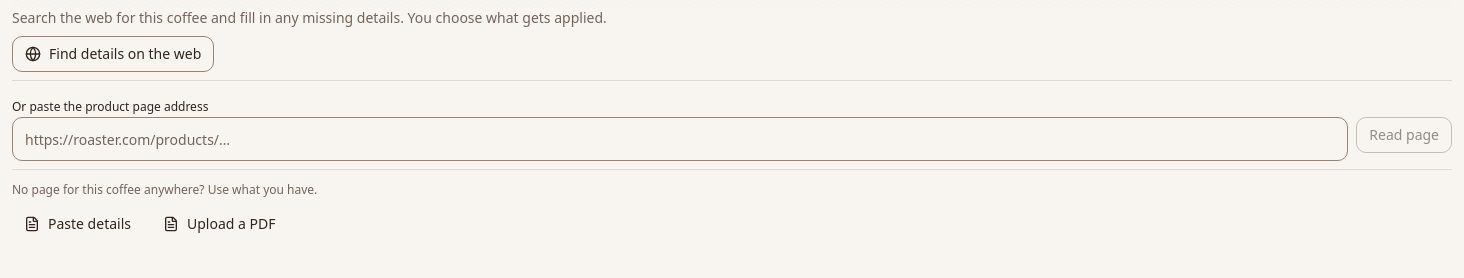
Scenario: EnrichPanel manual URL › says so instead of spending a request on a bad paste
Click the field labelled "Or paste the product page address": (680,139) [12, 117, 1348, 161]
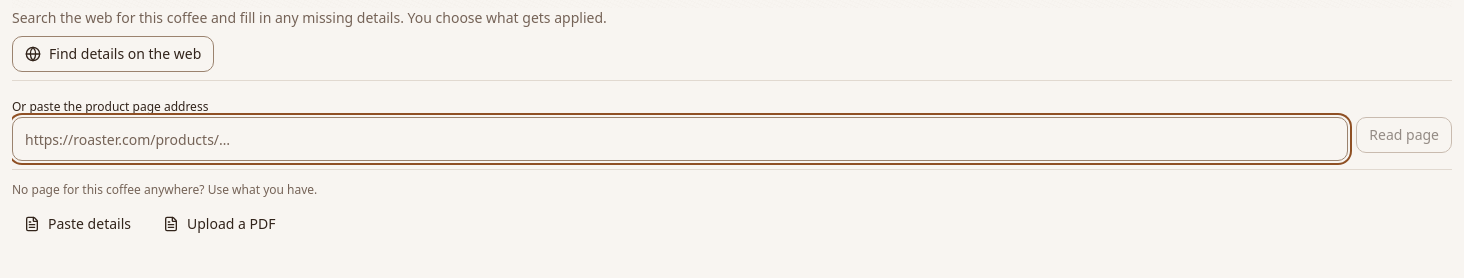
Type keys "after hours"
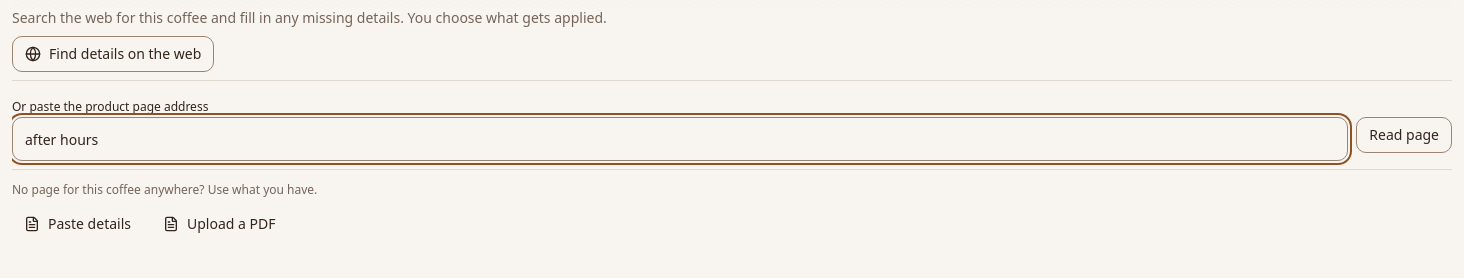
Click the button "Read page": (1404,135) [1356, 117, 1452, 153]
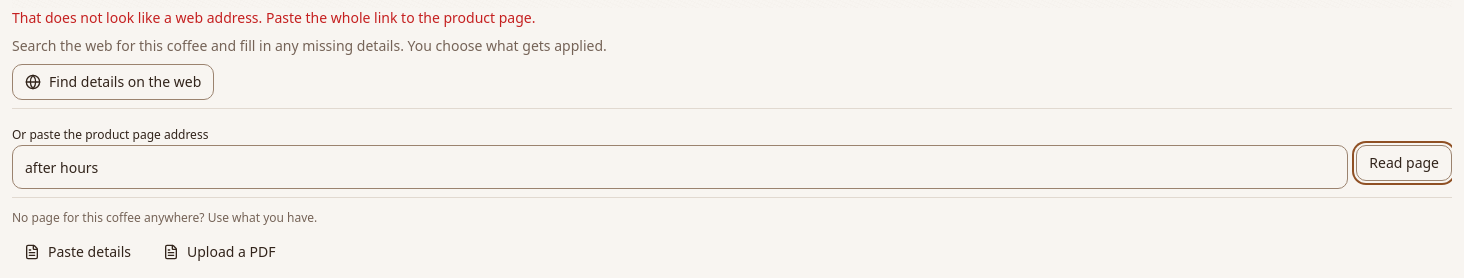
expect the message shows "does not look like a web address": met, box [12, 8, 536, 27]
